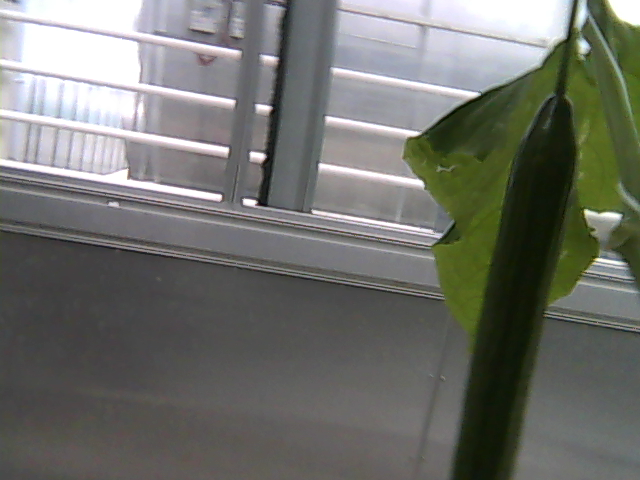concombre: (448, 79, 581, 480)
